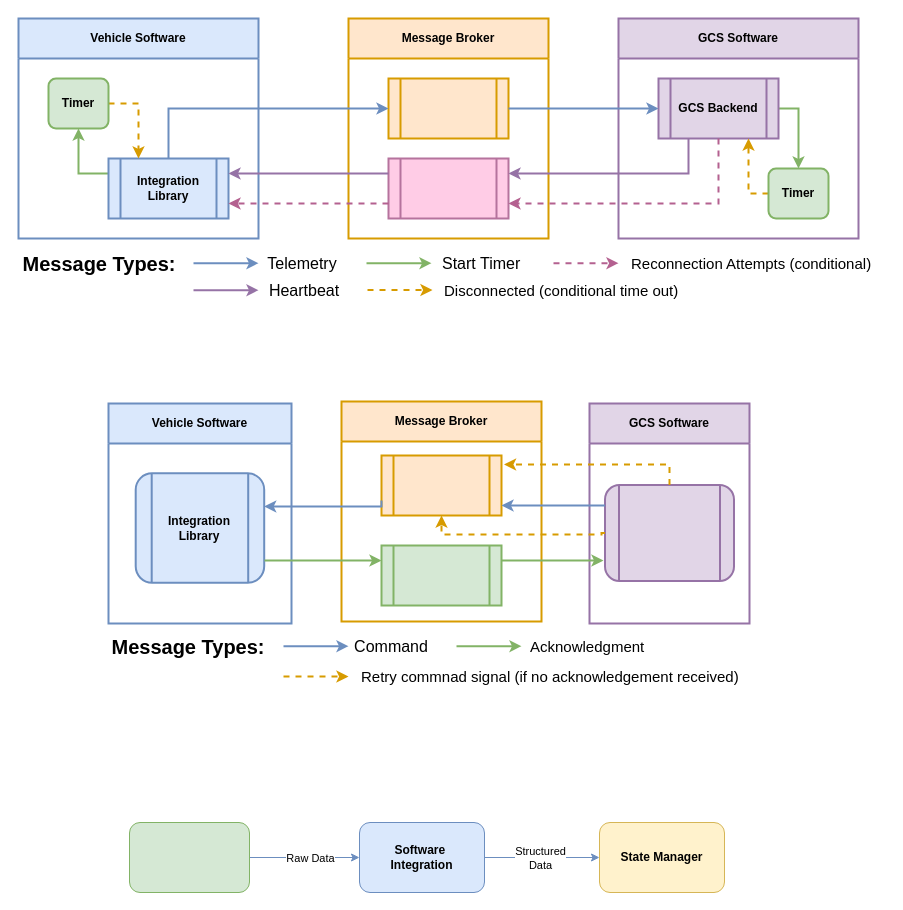
Some shapes in this 903 by 910 pixel diagram are drawn without their labels. The box of each missing label's shape, as (x1, y1, x2, y2) in pixels:
Commands Queue: (380, 454, 502, 516)
GCS Backend Services: (604, 484, 734, 582)
Heartbeat Queue: (387, 157, 509, 219)
Response Queue: (380, 544, 502, 606)
Telemetry Queue: (387, 77, 509, 139)
Weather Station: (128, 822, 250, 892)
